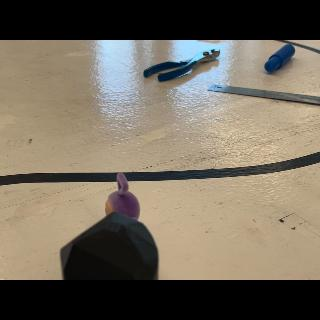teletubby: (105, 173, 140, 220)
